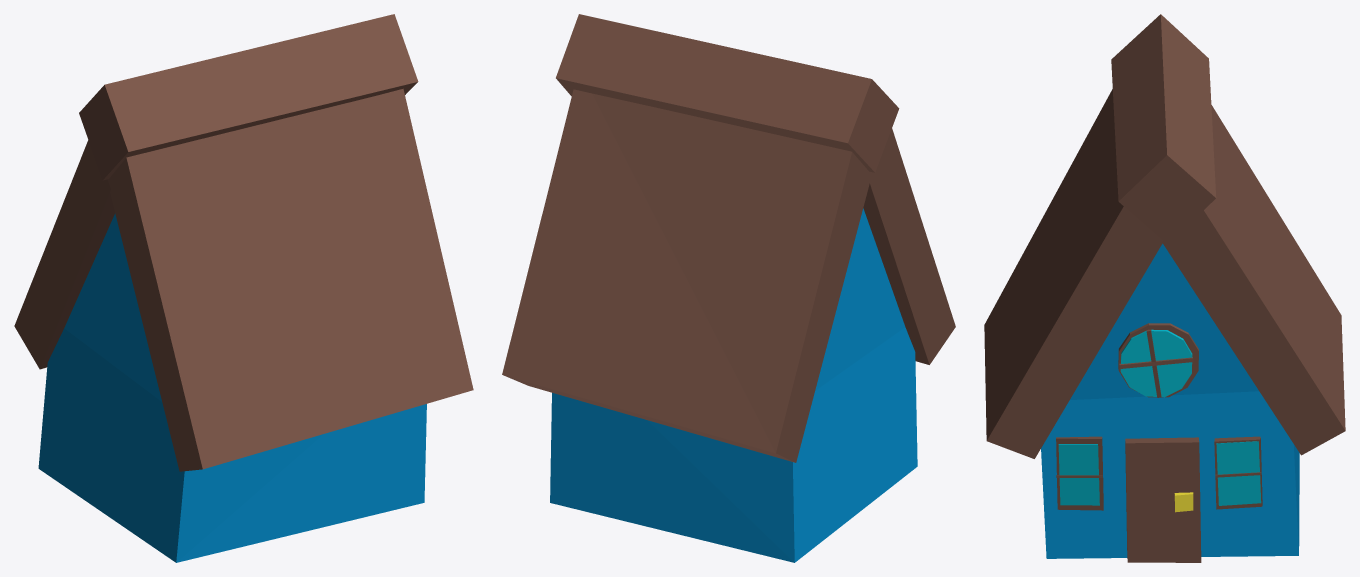
Rendered from house.glb.
3 renders of one model, left to right at view 1: azimuth 30°, elevation 25°; view 2: azimuth 150°, elevation 25°; view 3: azimuth 270°, elevation 25°, orthographic. The views are drawn at different scales.
Visible parts, largest first — view 1: Asset3DLoader.sceneRoot; view 2: Asset3DLoader.sceneRoot; view 3: Asset3DLoader.sceneRoot.
Boxes of the visible parts, x1,y1,x2,y2 form: Asset3DLoader.sceneRoot: (14,14,473,562); Asset3DLoader.sceneRoot: (502,14,955,562); Asset3DLoader.sceneRoot: (984,14,1345,562).
Bounding box in the file's own units: 0.4199 × 0.5946 × 0.4609.
